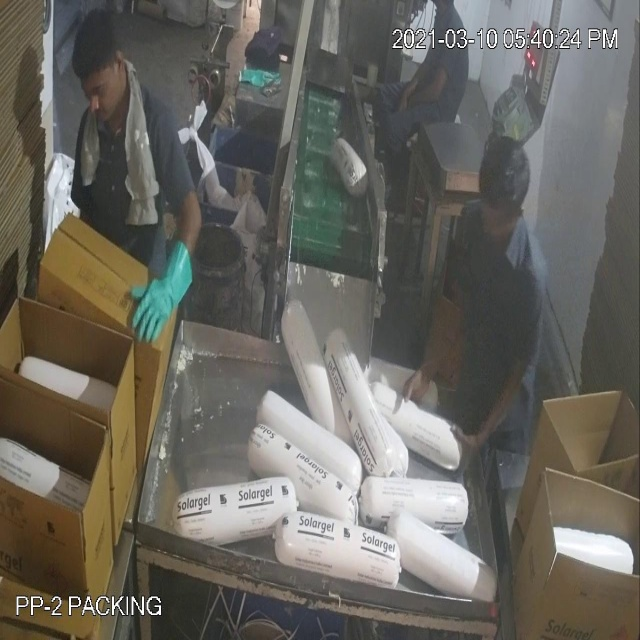Guantes: (129, 221, 201, 356)
Sin_guantes: (450, 337, 540, 460), (397, 265, 461, 415), (399, 65, 454, 115)
